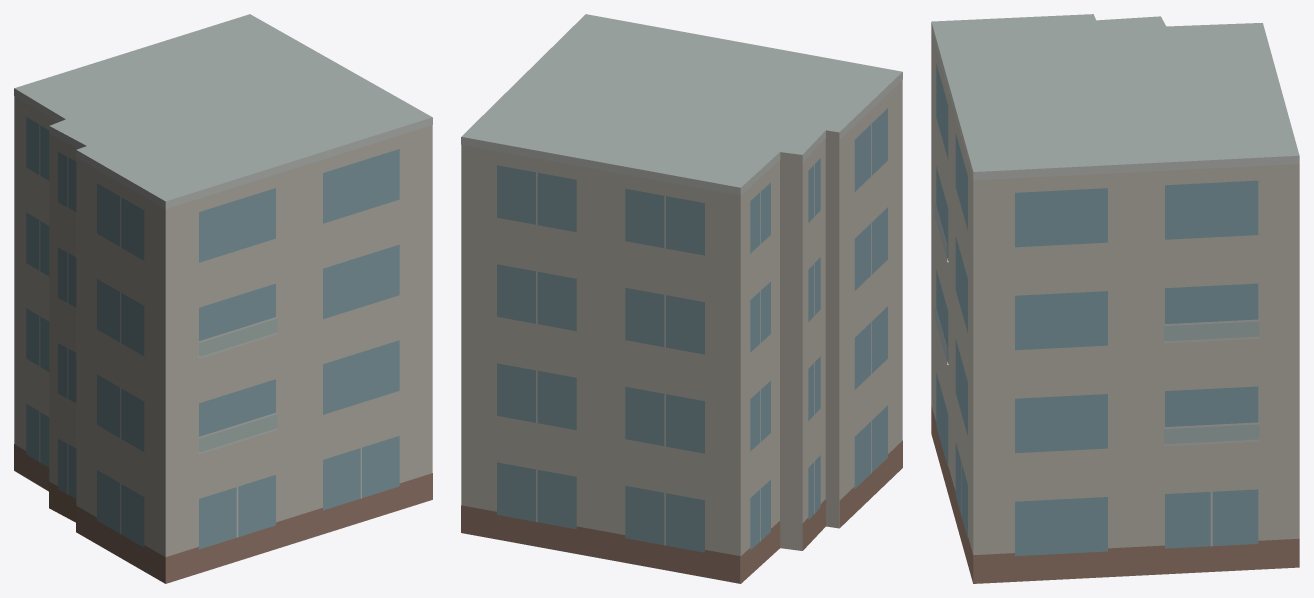
File: survey-upis-32724907.glb
3 views of the same model, side by side, from view 1: azimuth 30°, elevation 25°; view 2: azimuth 150°, elevation 25°; view 3: azimuth 270°, elevation 25° (orthographic). The views are drawn at different scales.
Parts seen in each view (by area): view 1: survey-upis-32724907.tmp; view 2: survey-upis-32724907.tmp; view 3: survey-upis-32724907.tmp.
Boxes of the visible parts, x1,y1,x2,y2 form: survey-upis-32724907.tmp: (14, 14, 432, 583); survey-upis-32724907.tmp: (461, 14, 902, 583); survey-upis-32724907.tmp: (931, 14, 1299, 583).
Bounding box in the file's own units: 10.09 × 12.25 × 9.94.
